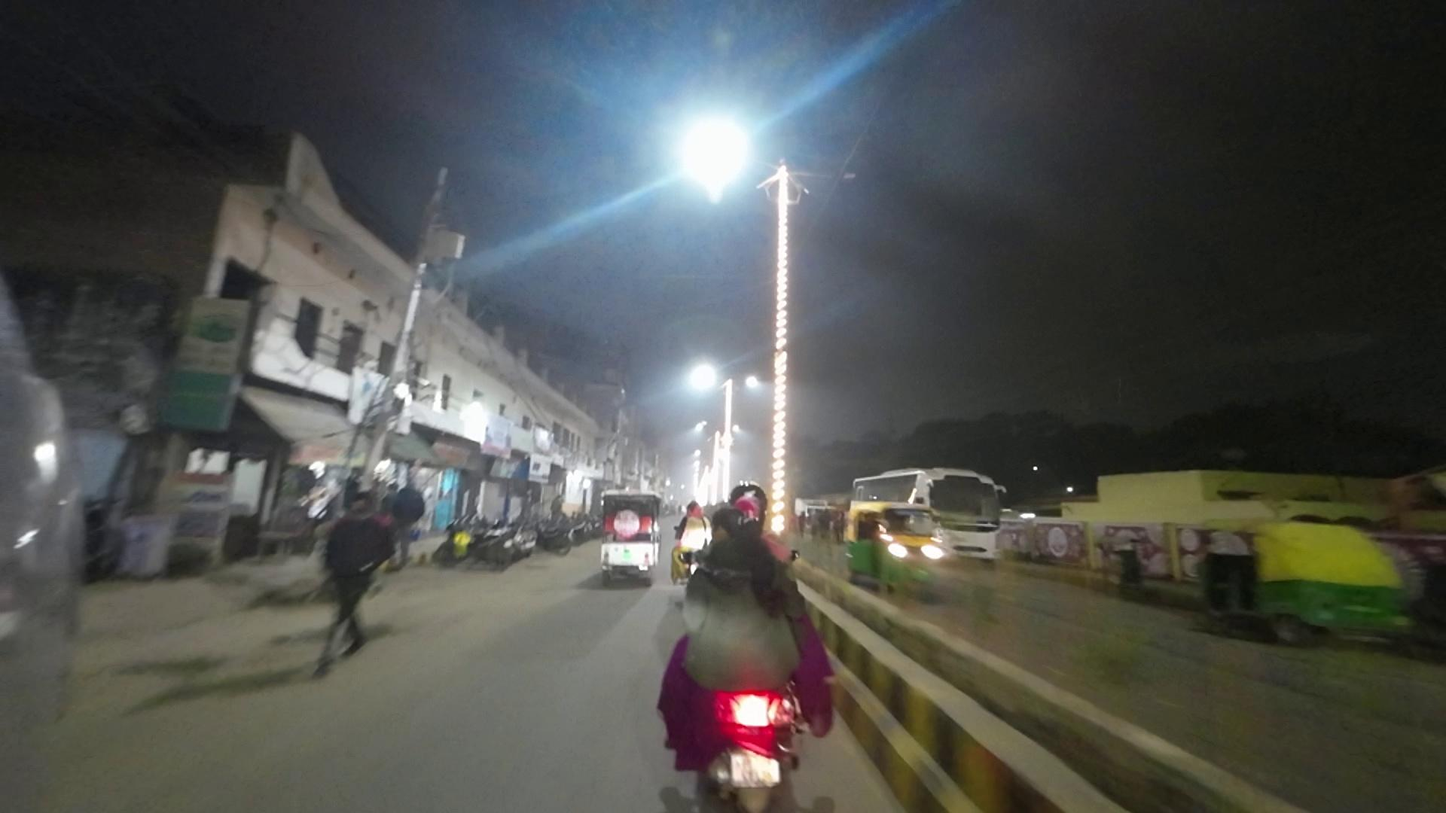streetlight: (798, 165, 859, 185)
